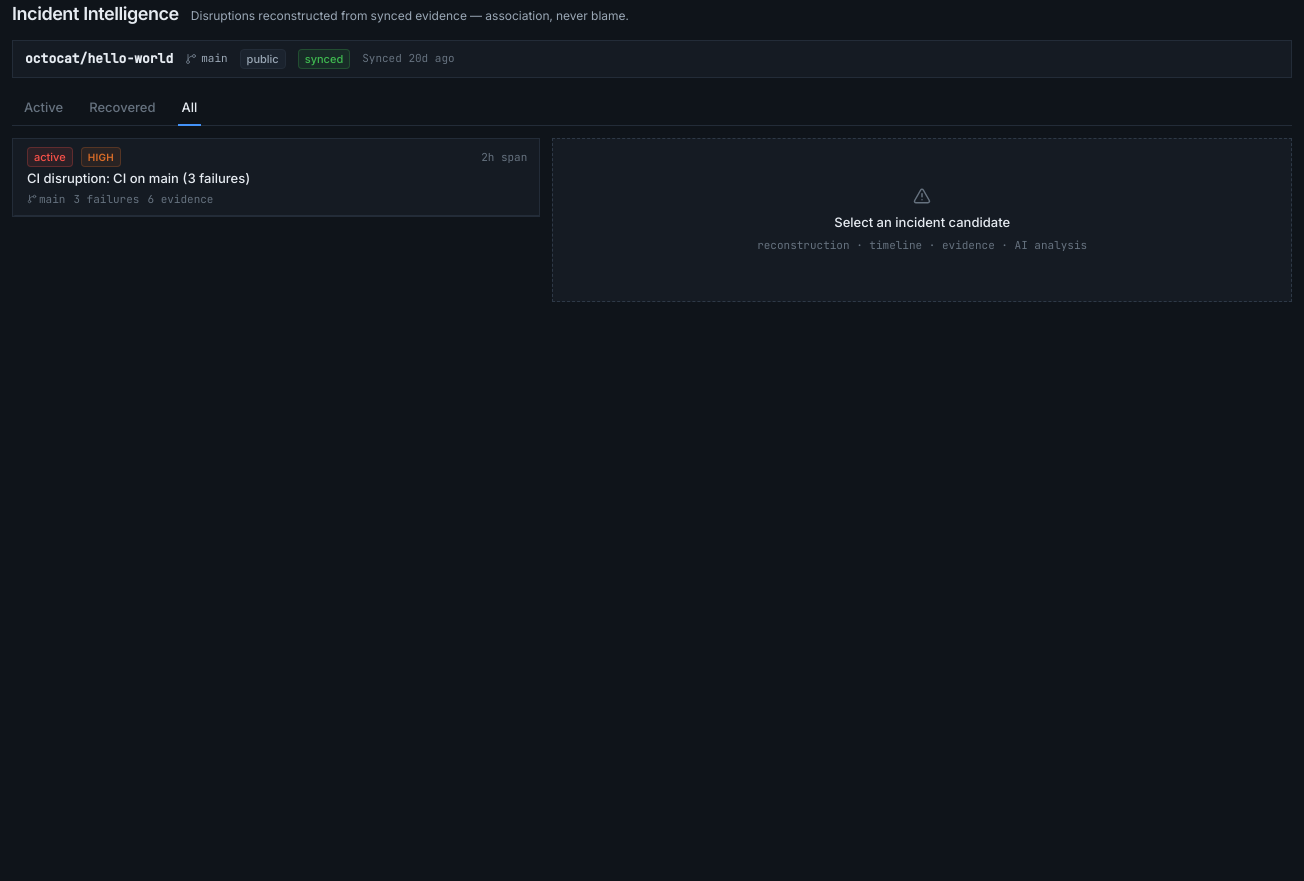
Test: IncidentsPage investigation › generates AI analysis on explicit action with unknowns
Step 1. Click the text "CI disruption: CI on main (3 failures)" → [139, 178], box [27, 170, 250, 186]
(page scrolled)
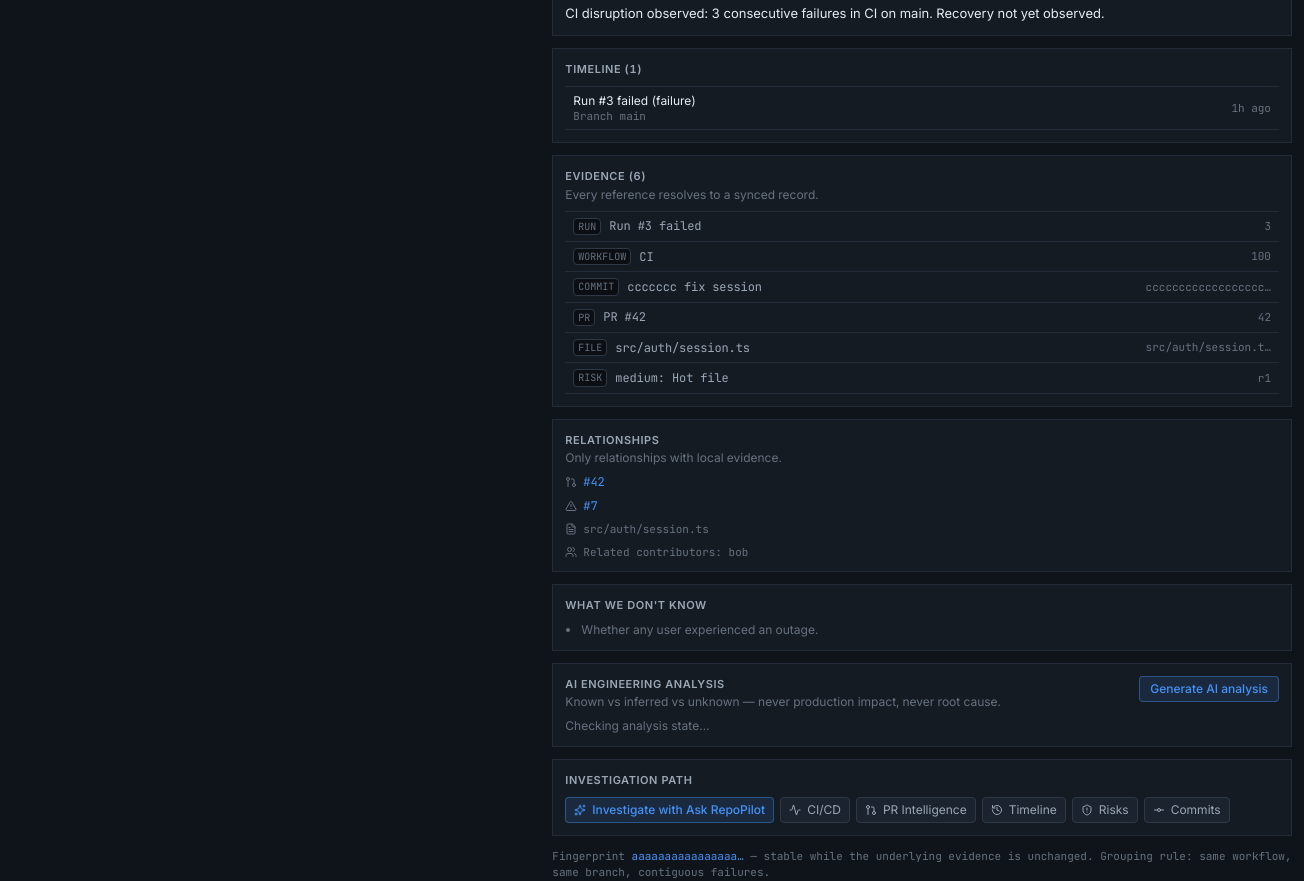
Step 2. Click the button "Generate AI analysis" → [1209, 689], box [1139, 676, 1279, 702]
(page scrolled)
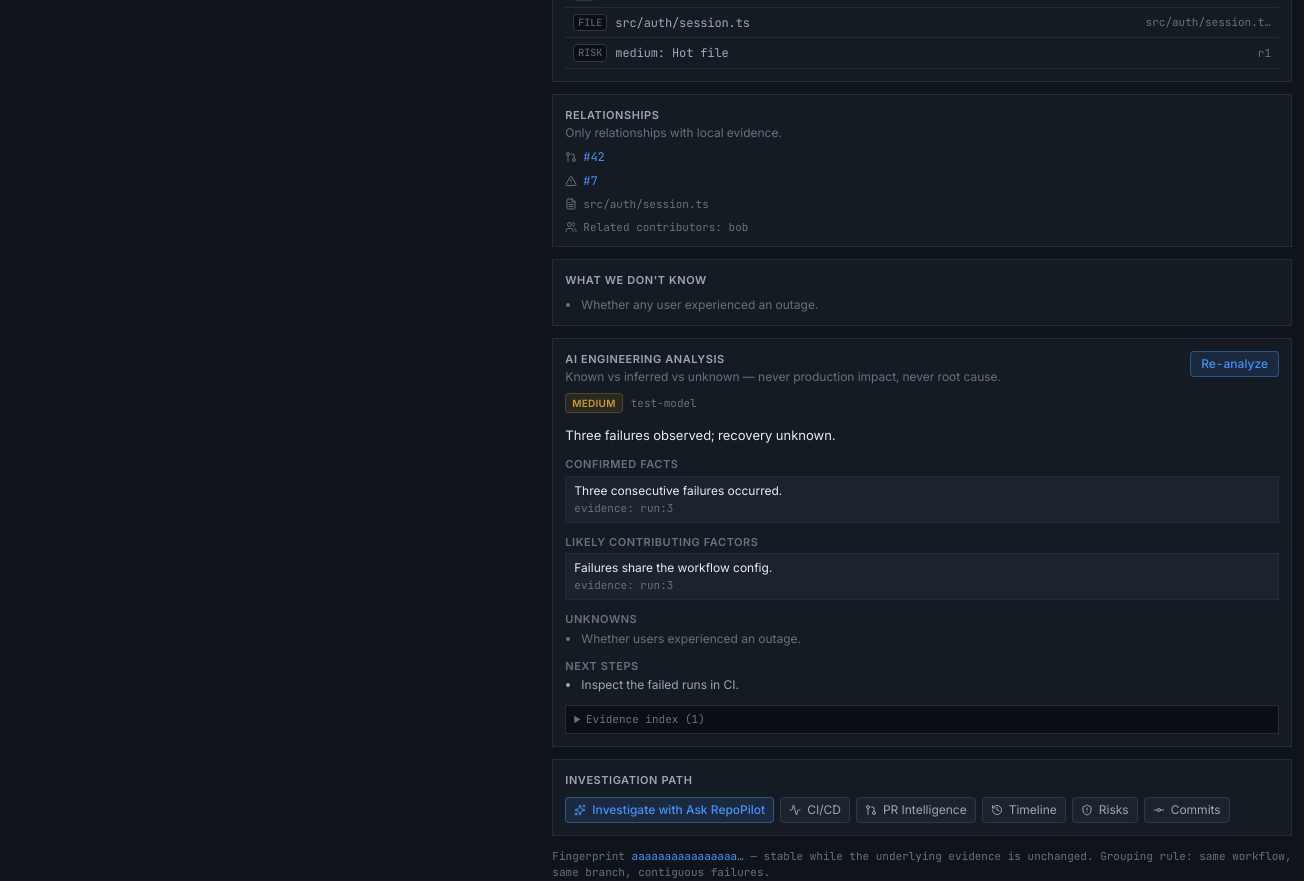
Check: the text "Three failures observed; recovery unknown." is shown, box [565, 427, 835, 443]
Check: the list item "Whether users experienced an outage." is shown, box [581, 631, 801, 646]
Check: the list item "Inspect the failed runs in CI." is shown, box [581, 677, 739, 692]
